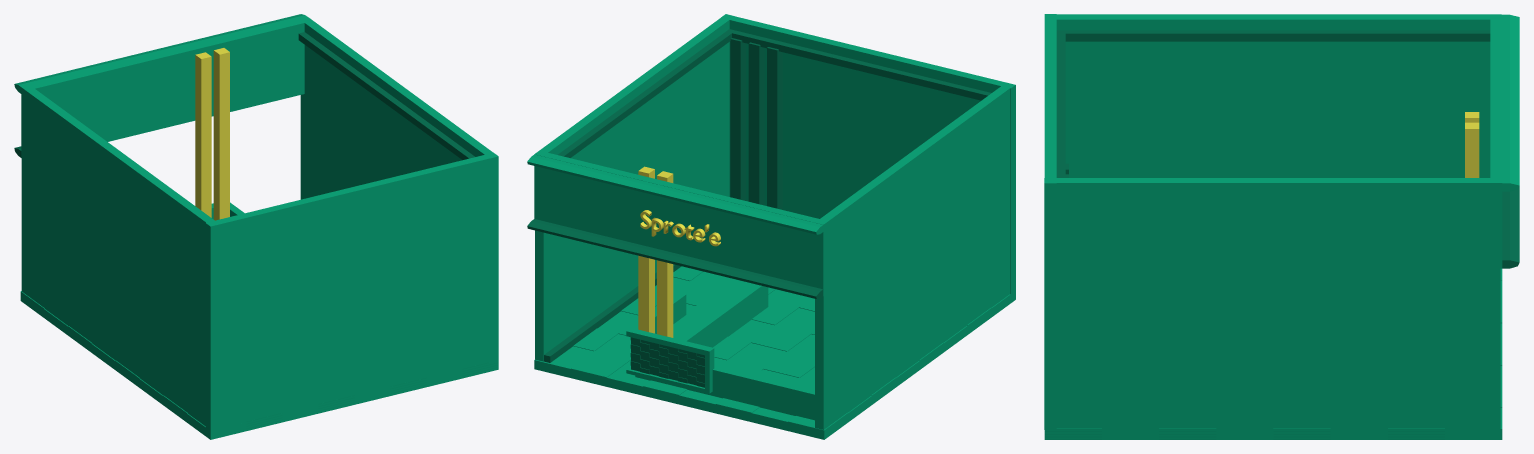
File: Beverages Stall.glb
The picture shows the model from 3 angles, left to right: view 1: azimuth 30°, elevation 25°; view 2: azimuth 150°, elevation 25°; view 3: azimuth 270°, elevation 25°; orthographic projection. The views are drawn at different scales.
Parts seen in each view (by area): view 1: Cube.105; view 2: Cube.105, Text.005; view 3: Cube.105.
Part boxes in pixels (<box>): Cube.105: <box>14,14,498,439</box>; Cube.105: <box>527,14,1015,439</box>; Text.005: <box>640,210,720,246</box>; Cube.105: <box>1044,14,1519,439</box>.
Bounding box in the file's own units: 52.57 × 37.22 × 62.41.
